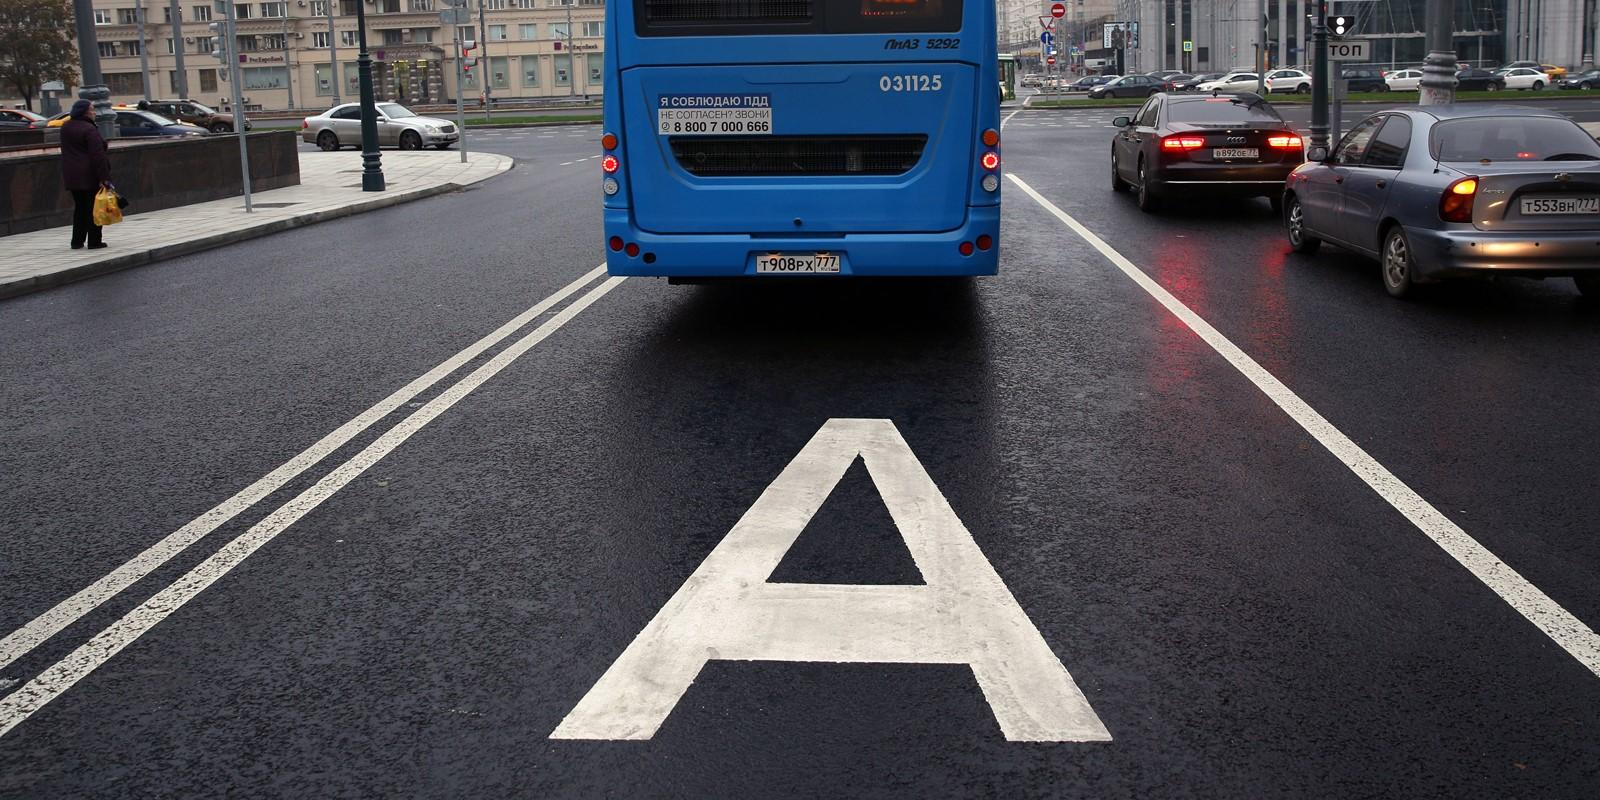bus_line: (0, 294, 1599, 799)
